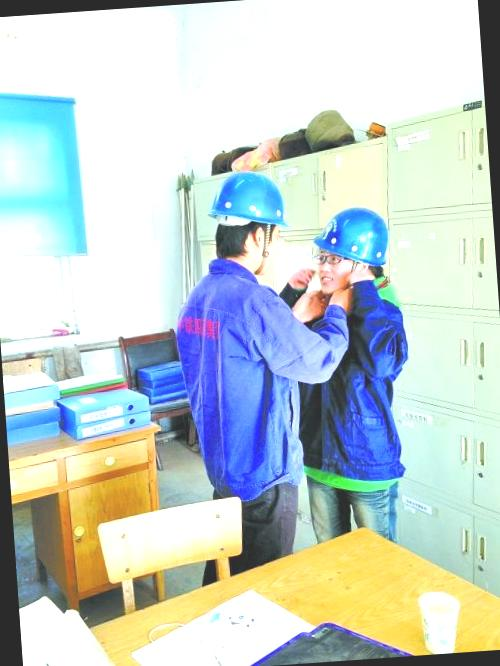helmet: (198, 163, 306, 238), (308, 209, 403, 270)
no_vest: (175, 244, 326, 500)
person: (166, 166, 342, 588), (300, 200, 424, 538)
